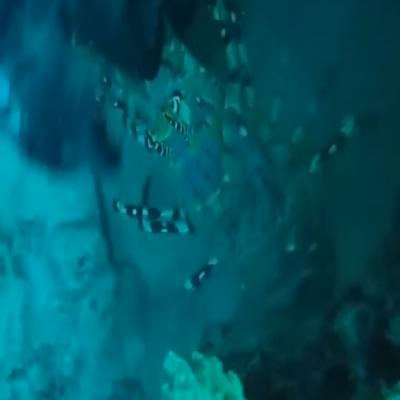lobster: (120, 56, 322, 241)
